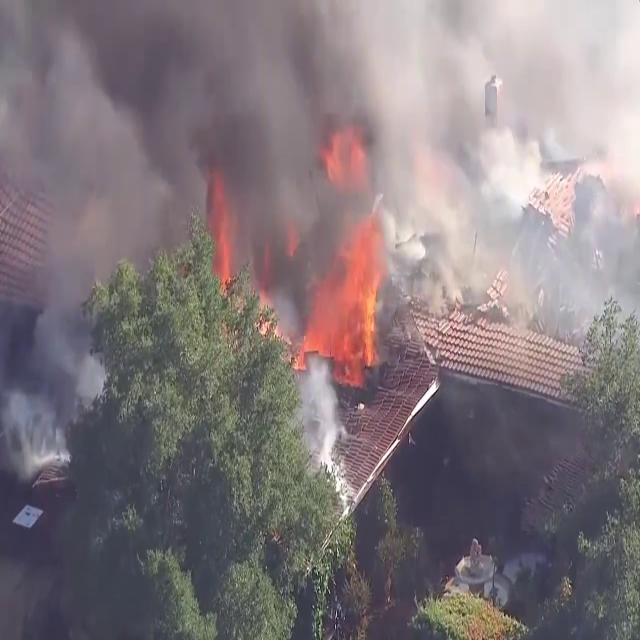Fire: (320, 150, 389, 375)
Smoke: (5, 0, 638, 357)
